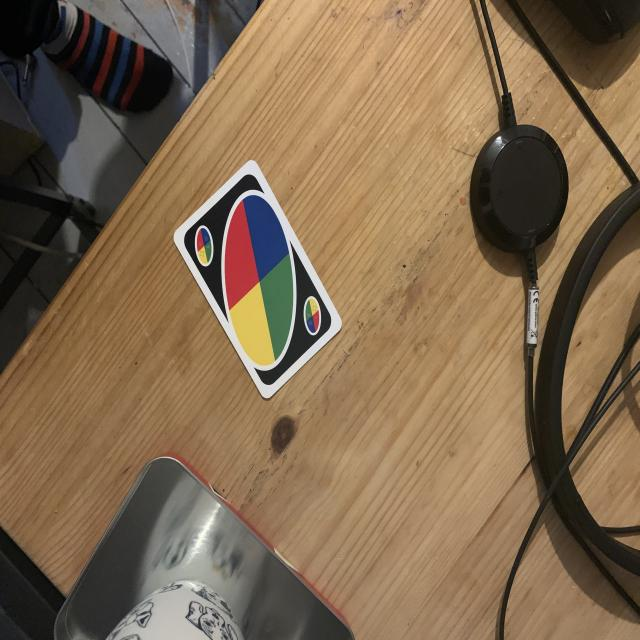lcolor-40: (189, 222, 220, 275)
